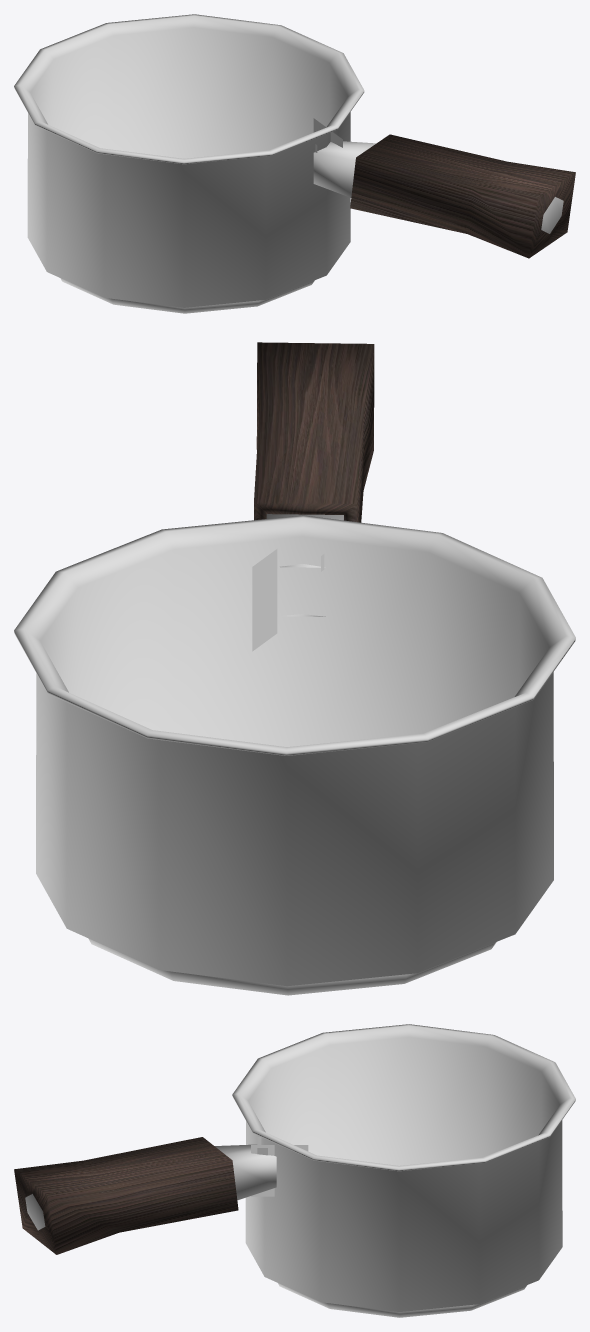
The model's file is pangat.glb.
3 views of the same model, one above another, from view 1: azimuth 30°, elevation 25°; view 2: azimuth 150°, elevation 25°; view 3: azimuth 270°, elevation 25° (orthographic). The views are drawn at different scales.
Parts seen in each view (by area): view 1: Cylinder; view 2: Cylinder, Plane.001; view 3: Cylinder.
Boxes of the visible parts, box(x1,y1,x2,y2) form: Cylinder: box(14, 14, 575, 313); Cylinder: box(14, 342, 575, 995); Plane.001: box(252, 549, 277, 651); Cylinder: box(14, 1024, 575, 1317).
Bounding box in the file's own units: 2.8 × 1.24 × 3.89.
5 materials, 3 textured.
